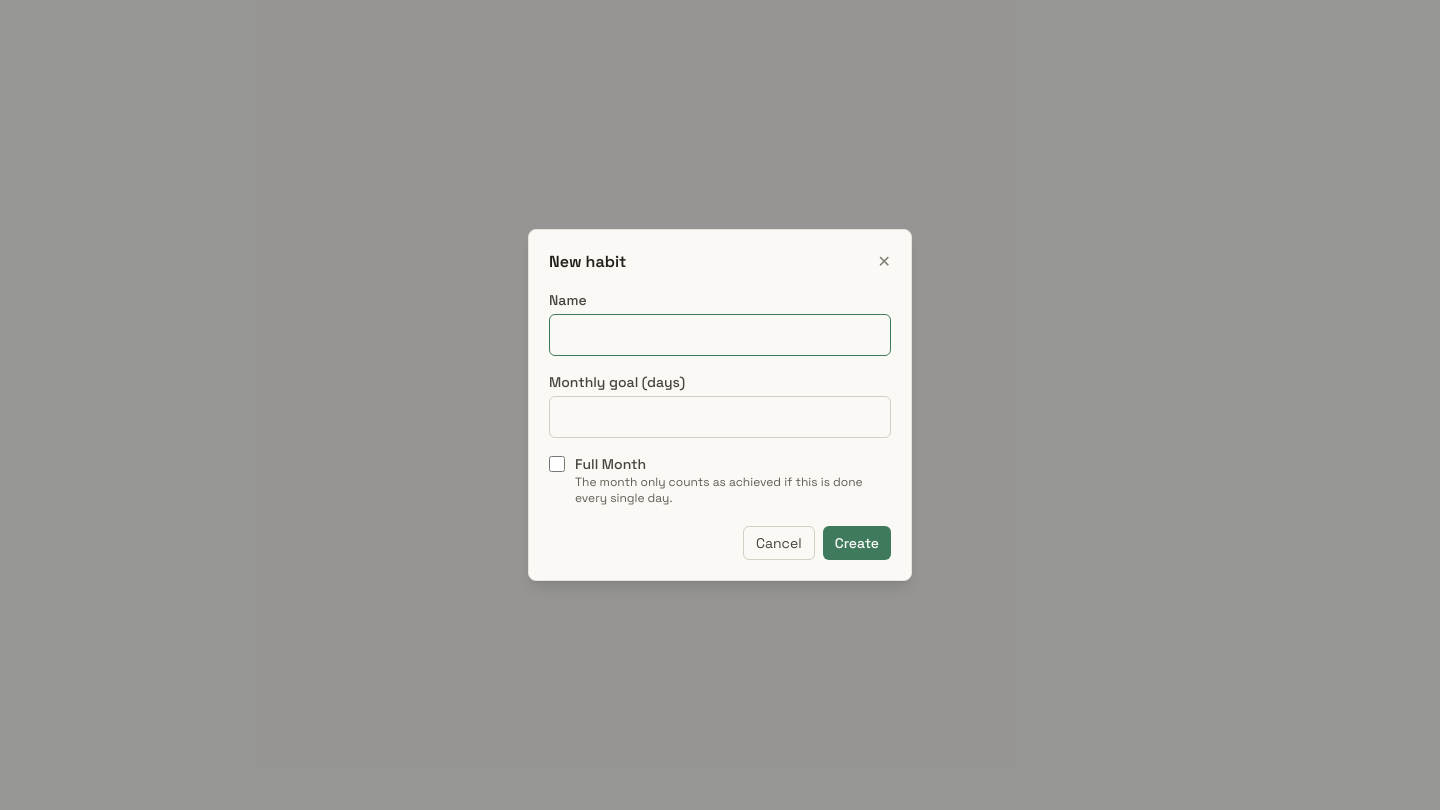
Test case: HabitFormModal Full Month toggle › is off by default and a numeric goal is required
Expected: the checkbox labelled "Full Month" is not checked, [549, 456, 565, 472]
In the field labelled "Name": (720, 335) [549, 314, 891, 356], type "Read"
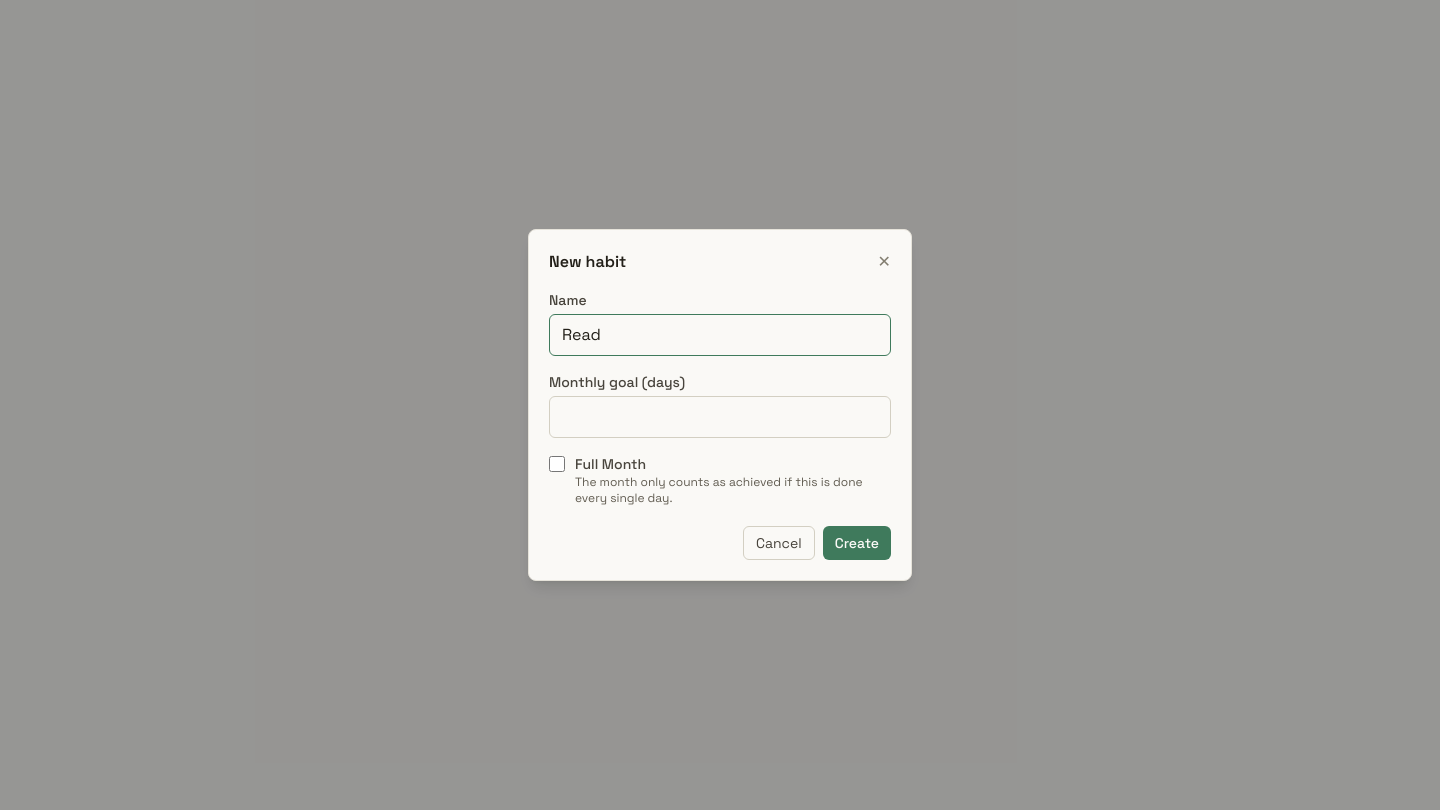
Click the button "Create": (857, 543) [823, 526, 891, 560]
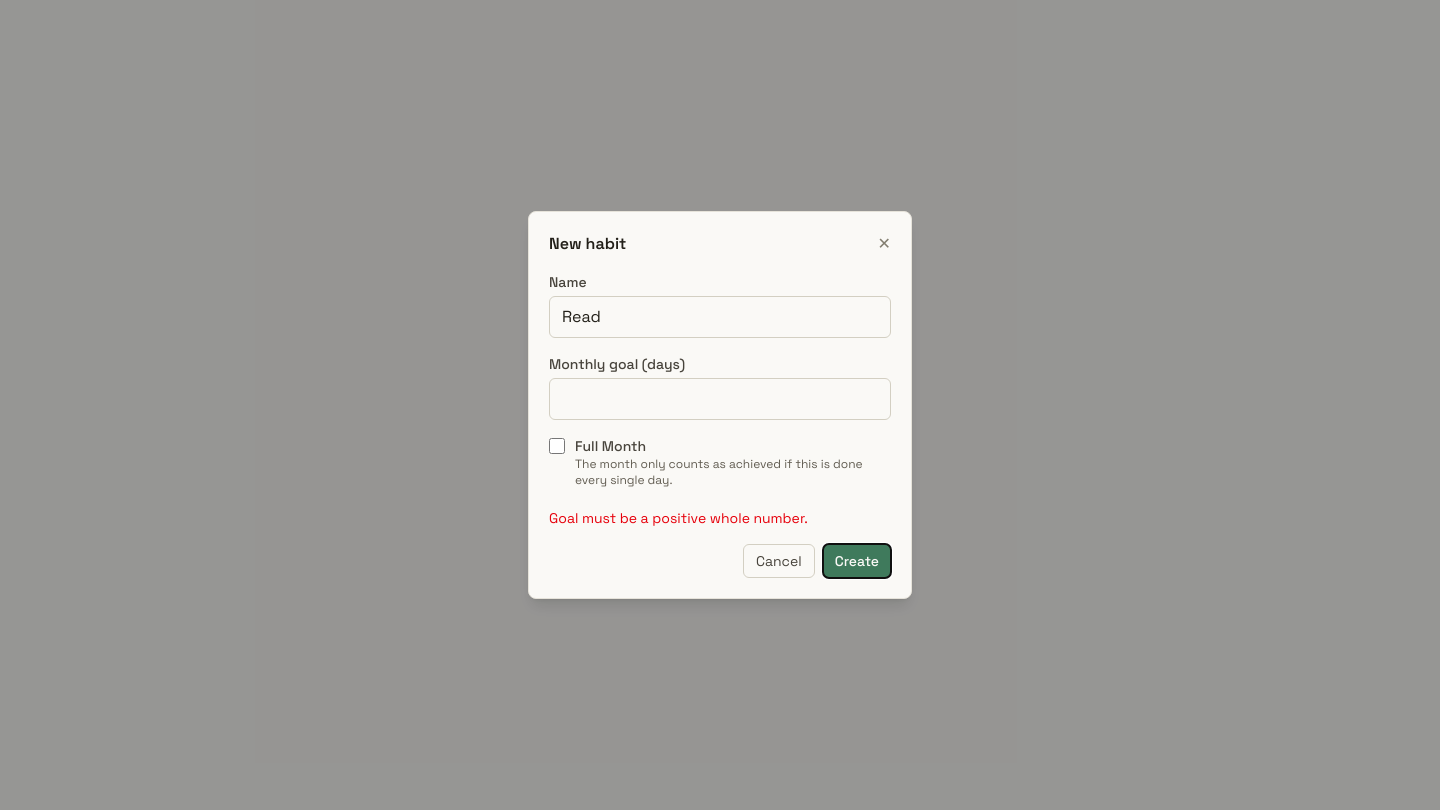
Result: the text "Goal must be a positive whole number." is shown at [549, 509, 808, 527]
